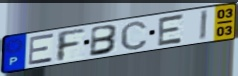B: (89, 24, 121, 58)
C: (119, 19, 149, 51)
E: (156, 12, 186, 48), (27, 32, 55, 66)
F: (55, 27, 87, 63)
I: (198, 9, 210, 42)
